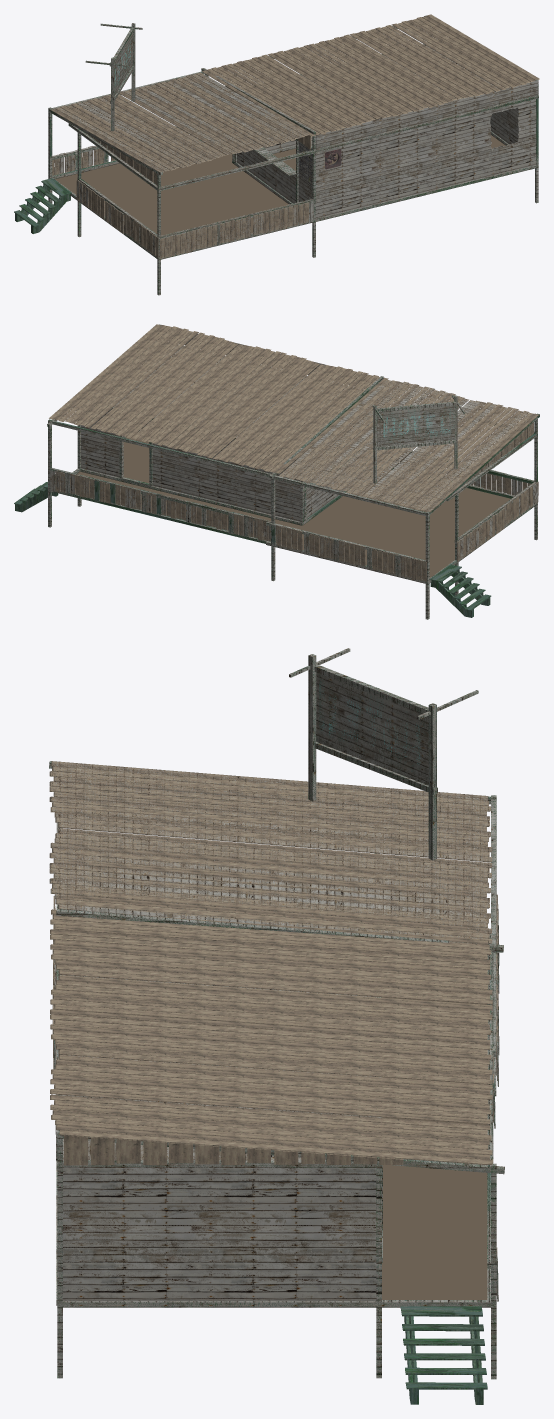
Rendered from Restuarant.fbx.
3 views of the same model, one above another, from view 1: azimuth 30°, elevation 25°; view 2: azimuth 150°, elevation 25°; view 3: azimuth 270°, elevation 25° (orthographic). The views are drawn at different scales.
Visible parts, largest first — view 1: Group2; view 2: Group2; view 3: Group2.
Boxes of the visible parts, x1,y1,x2,y2 form: Group2: (14, 14, 539, 295); Group2: (14, 324, 539, 619); Group2: (49, 648, 504, 1404).
Size of the model in its own units: 1619 by 630 by 702.
